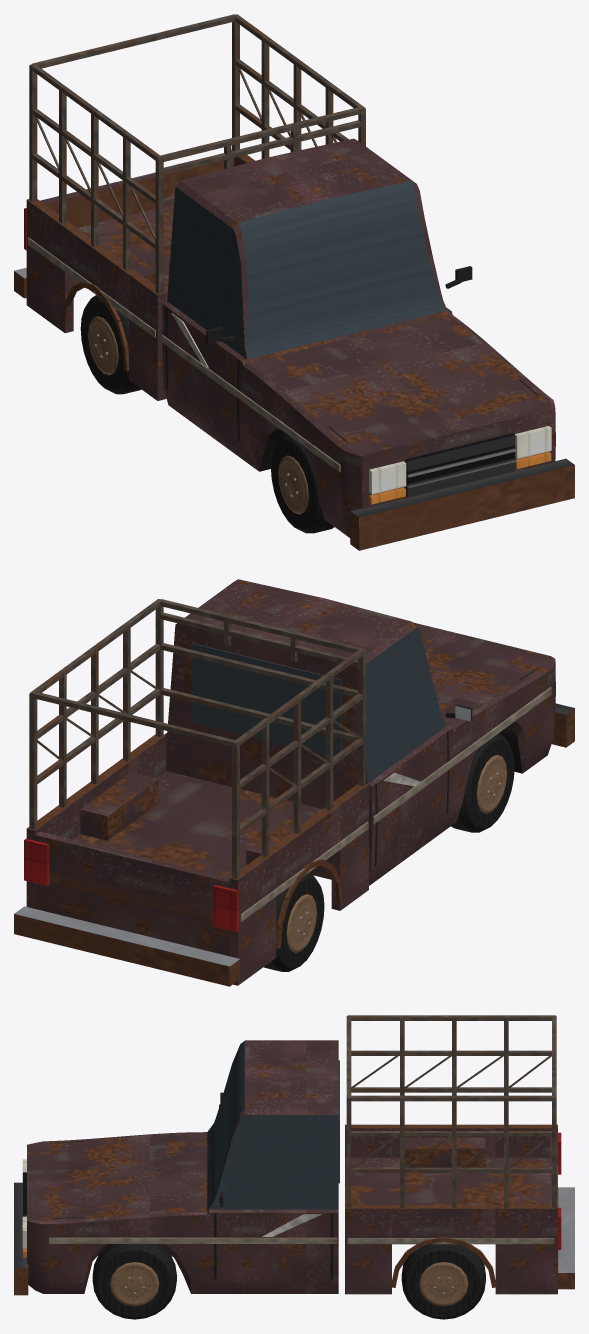
Rendered from ThaiPickupOld.fbx.
3 views of the same model, one above another, from view 1: azimuth 30°, elevation 25°; view 2: azimuth 150°, elevation 25°; view 3: azimuth 270°, elevation 25° (orthographic). The views are drawn at different scales.
Parts seen in each view (by area): view 1: ThaiPickupOld, ThaiPickupOld_Glass, Wheel_FR, Wheel_RR; view 2: ThaiPickupOld, ThaiPickupOld_Glass, Wheel_FR, Wheel_RR; view 3: ThaiPickupOld, ThaiPickupOld_Glass, Wheel_FL, Wheel_RL.
Part boxes in pixels (left/top/right/bottom): ThaiPickupOld: left=14, top=14, right=574, bottom=550; ThaiPickupOld_Glass: left=167, top=180, right=447, bottom=359; Wheel_FR: left=271, top=434, right=334, bottom=533; Wheel_RR: left=80, top=295, right=141, bottom=394; ThaiPickupOld: left=14, top=579, right=574, bottom=986; ThaiPickupOld_Glass: left=191, top=627, right=447, bottom=783; Wheel_FR: left=451, top=733, right=514, bottom=832; Wheel_RR: left=264, top=873, right=324, bottom=971; ThaiPickupOld: left=14, top=1015, right=574, bottom=1295; ThaiPickupOld_Glass: left=208, top=1041, right=339, bottom=1209; Wheel_FL: left=92, top=1244, right=176, bottom=1319; Wheel_RL: left=401, top=1244, right=485, bottom=1319.
Bounding box in the file's own units: 267 × 270 × 605.
Materials: 1 (1 with a texture image).
